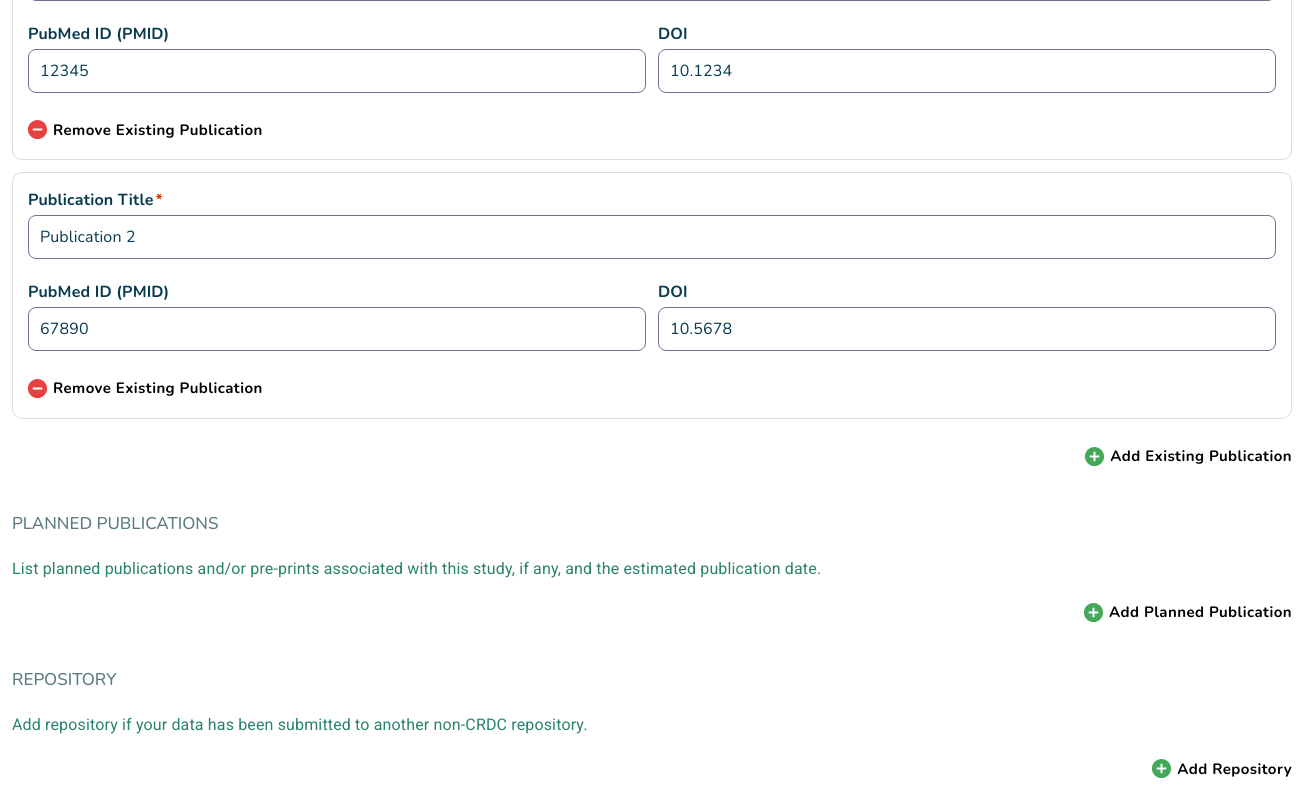
Test: Basic Functionality › should remove a publication when remove button is clicked
(page scrolled)
Expected: the element with test id "section-b-publication-1" is shown, [12,172,1292,419]
Click the 2nd button "Remove Existing Publication" at {"x": 145, "y": 388}, box [28,377,263,400]
(page scrolled)
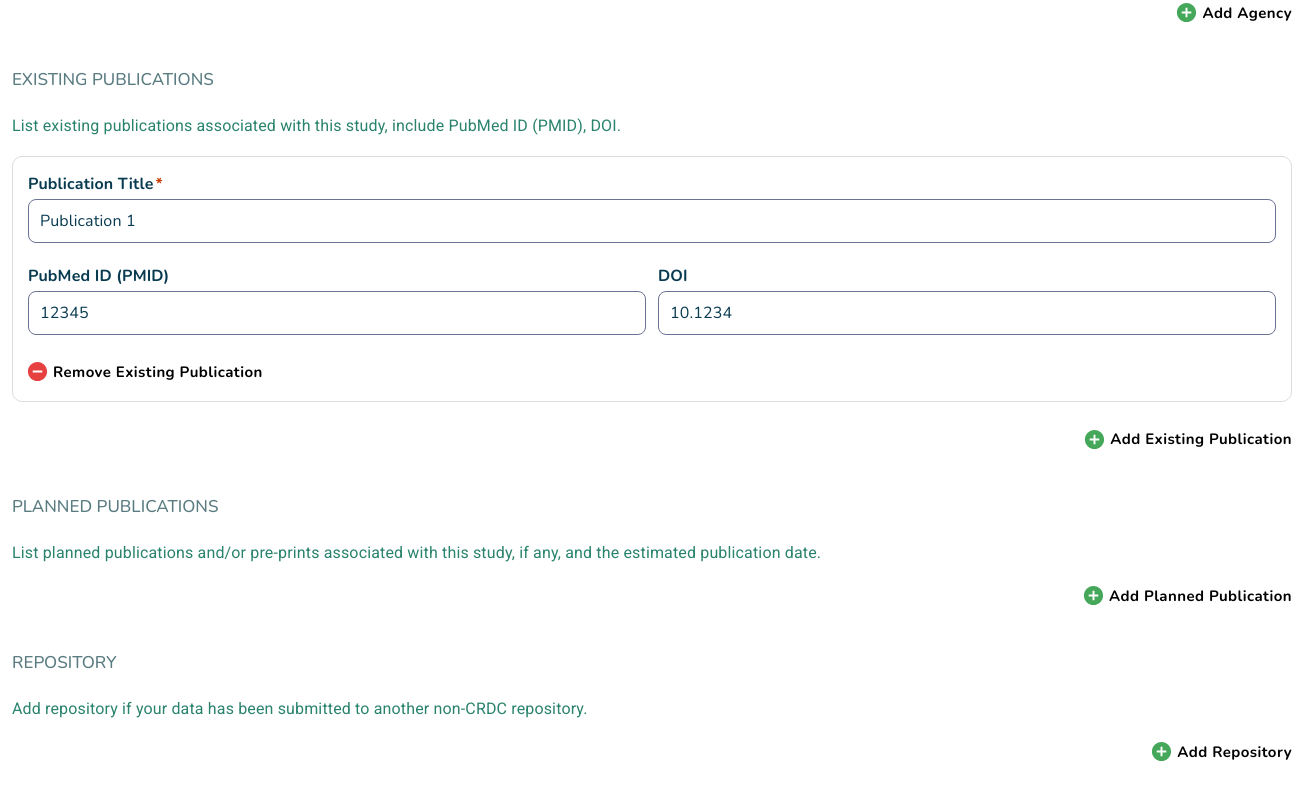
Expected: the element with test id "section-b-publication-0" is shown, [12,156,1292,402]
Result: the element with test id "section-b-publication-1" is gone
